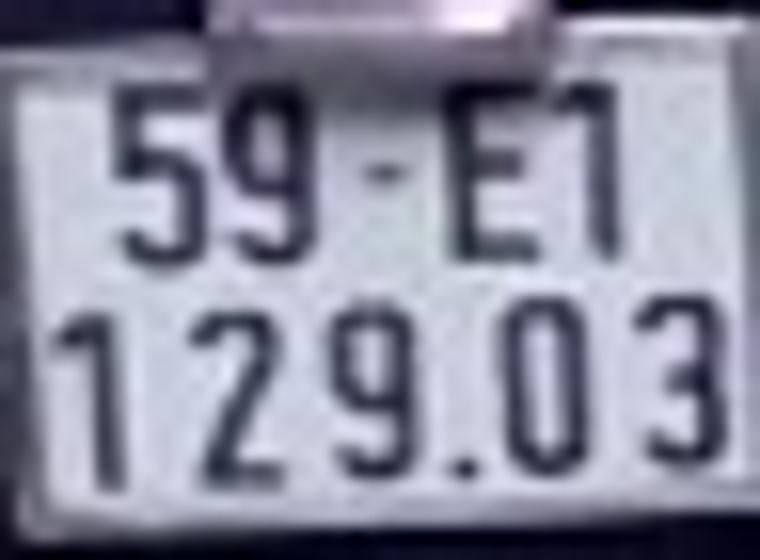-: (357, 157, 410, 190)
.: (440, 452, 478, 484)
0: (494, 289, 588, 480)
1: (51, 310, 141, 498), (552, 75, 627, 265)
2: (184, 308, 293, 498)
3: (635, 284, 730, 472)
5: (107, 82, 208, 271)
9: (320, 296, 415, 487), (227, 78, 318, 265)
E: (434, 73, 545, 269)
